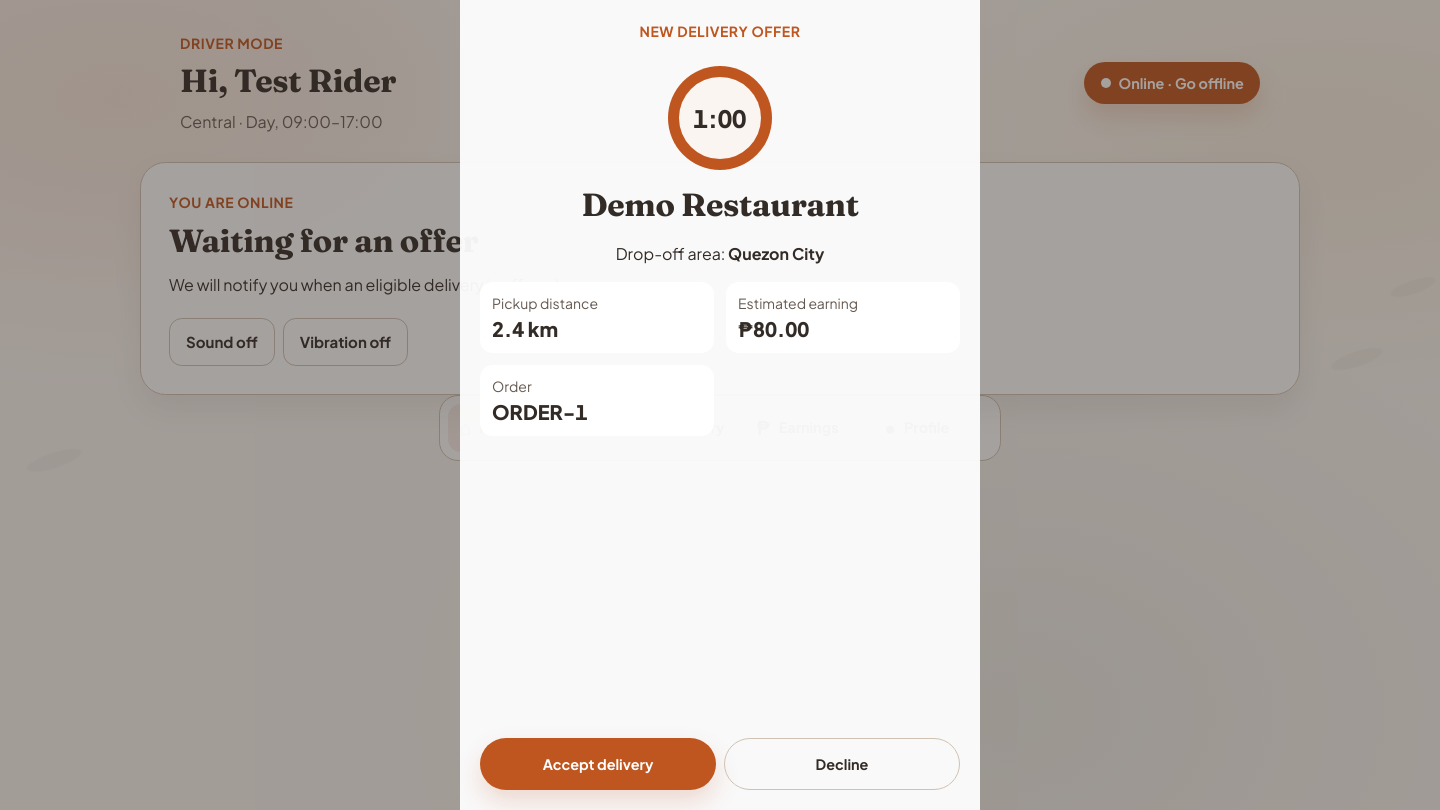
Test case: RiderPage dispatch experience › shows a permission error and allows the rider to retry location tracking
This screenshot has width=1440, height=810.
Later steps or results of the test are not shown.
Click the button "Accept delivery".
click(598, 764)  # box [480,738,716,790]
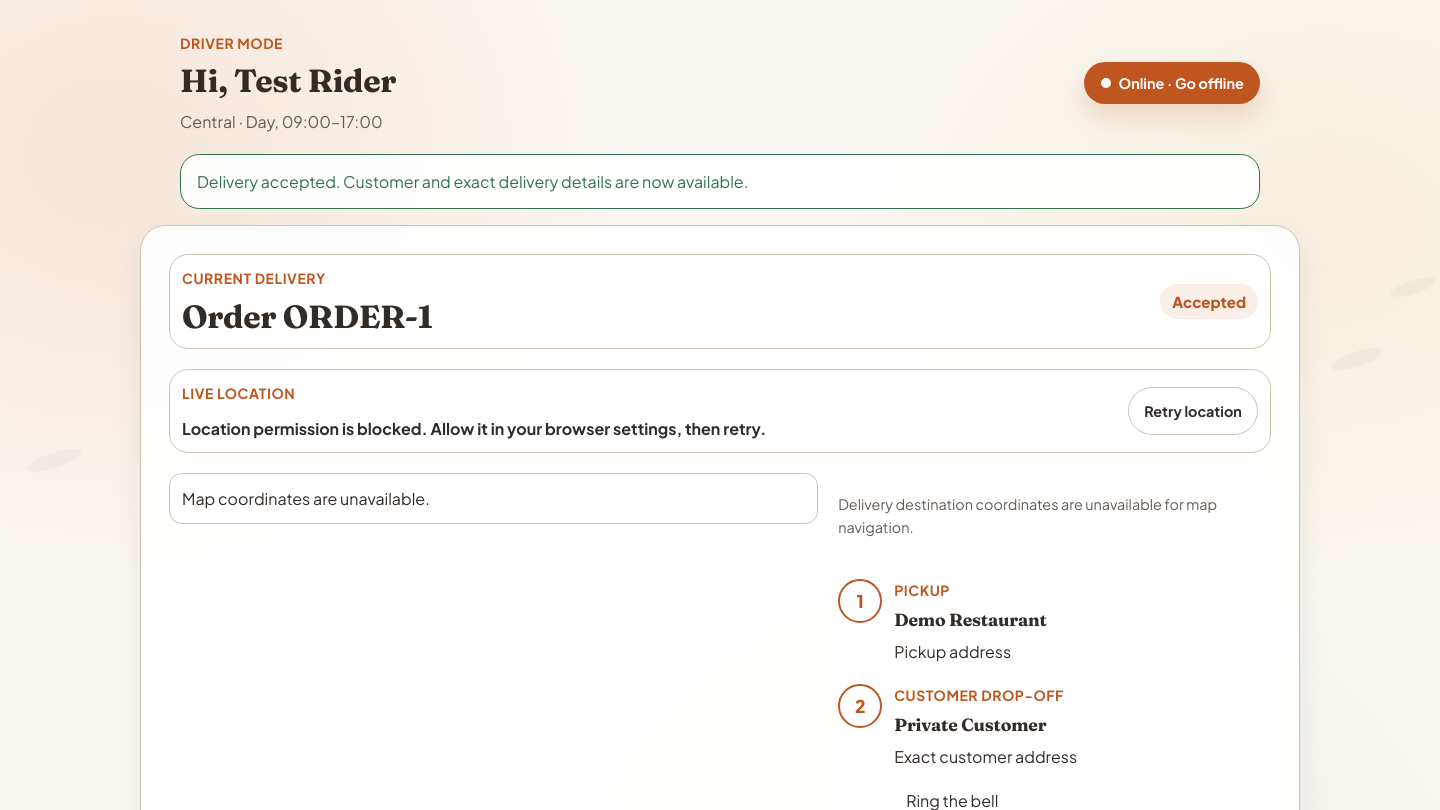
Now the text "Exact customer address" is shown, box [894,746,1077,767]
Now the text "Location permission is blocked" is shown, box [182,418,766,438]
